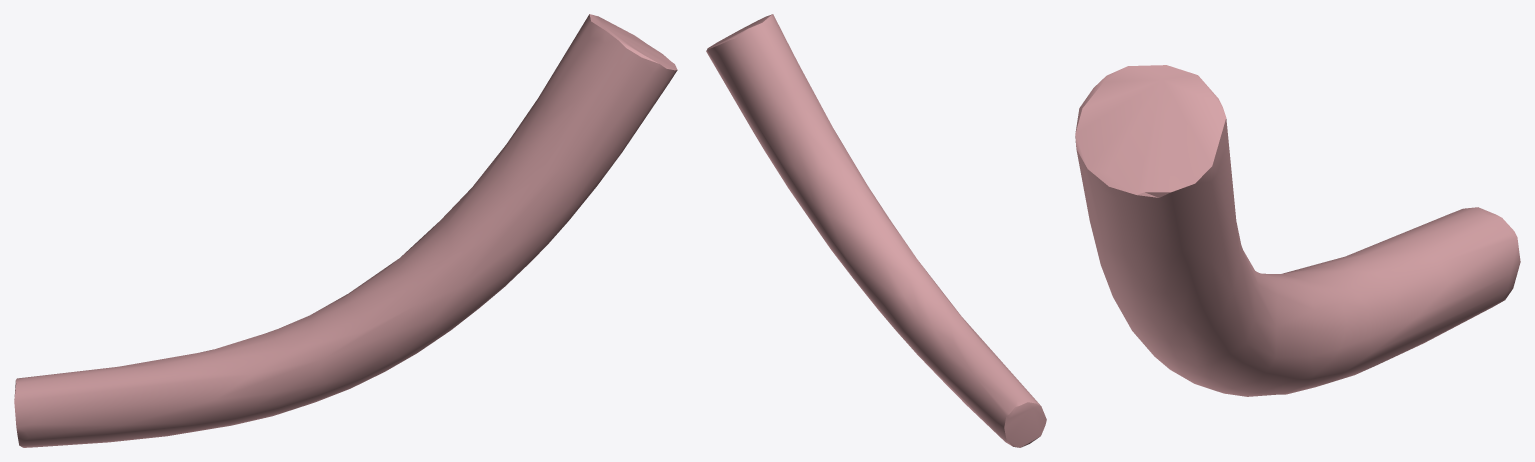
Rendered from fma68216_fj6581.glb.
3 renders of one model, left to right at view 1: azimuth 30°, elevation 25°; view 2: azimuth 150°, elevation 25°; view 3: azimuth 270°, elevation 25°, orthographic. The views are drawn at different scales.
Visible parts, largest first — view 1: FMA68216_FJ6581; view 2: FMA68216_FJ6581; view 3: FMA68216_FJ6581.
Part boxes in pixels (bbox=[...]): FMA68216_FJ6581: bbox=[14, 14, 677, 447]; FMA68216_FJ6581: bbox=[706, 14, 1046, 447]; FMA68216_FJ6581: bbox=[1075, 65, 1520, 396].
Size of the model in its own units: 0.0183 by 0.0123 by 0.00868.
